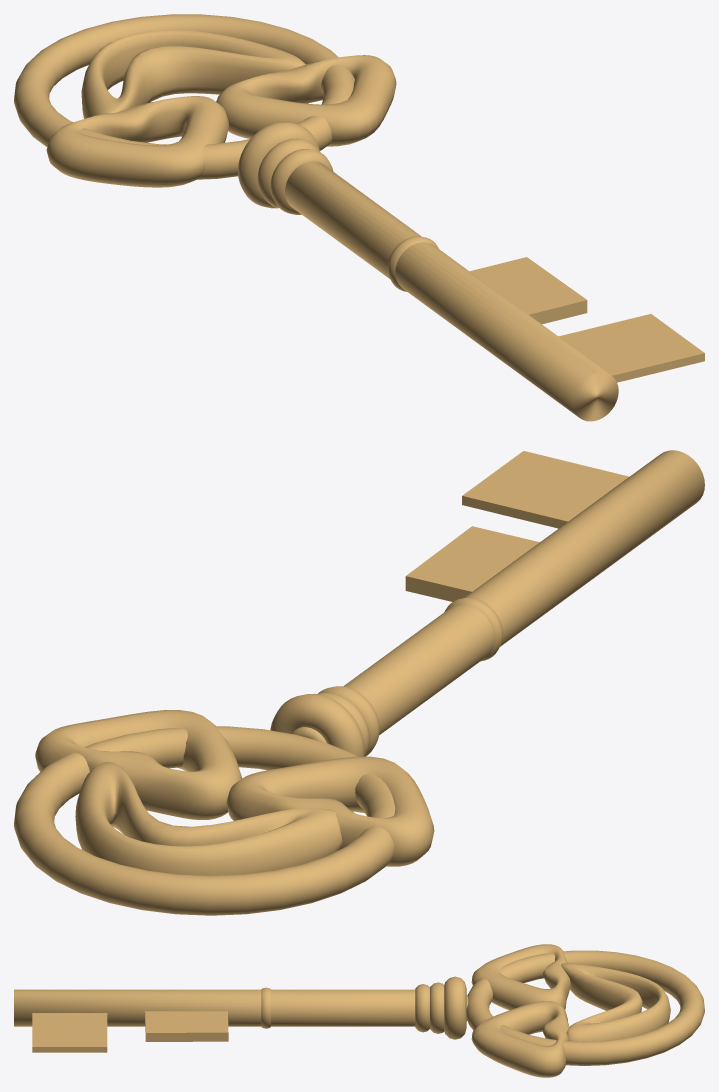
Rendered from key.fbx.
3 views of the same model, one above another, from view 1: azimuth 30°, elevation 25°; view 2: azimuth 150°, elevation 25°; view 3: azimuth 270°, elevation 25° (orthographic). The views are drawn at different scales.
Parts seen in each view (by area): view 1: Cube.001; view 2: Cube.001; view 3: Cube.001.
Boxes of the visible parts, bbox=[...] form: Cube.001: bbox=[14, 14, 704, 421]; Cube.001: bbox=[14, 450, 704, 915]; Cube.001: bbox=[14, 944, 704, 1077].
Size of the model in its own units: 278 by 64.26 by 701.
